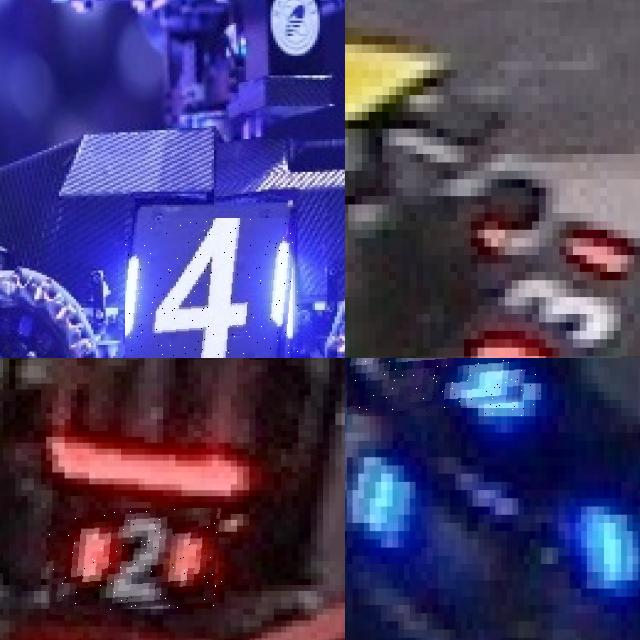B4: (125, 218, 297, 358), (564, 457, 640, 613), (346, 358, 541, 416), (345, 387, 403, 518)
R2: (49, 508, 222, 615)
R3: (484, 212, 627, 358)
